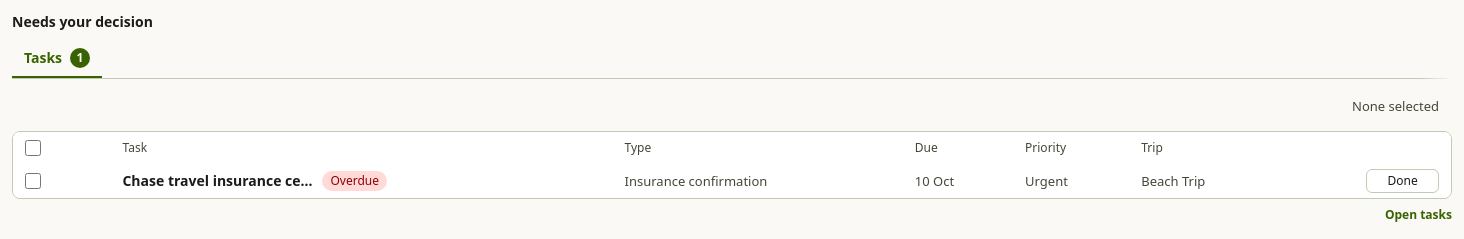
Test case: Tasks due group — Done reads the task fresh (deep S2) › sends nothing for a task already Completed elsewhere: it stays so, the row leaves, the group refetches and says so
Click the button with aria-label "Done: Chase travel insurance certificate": [1403, 181] box [1366,169,1439,193]
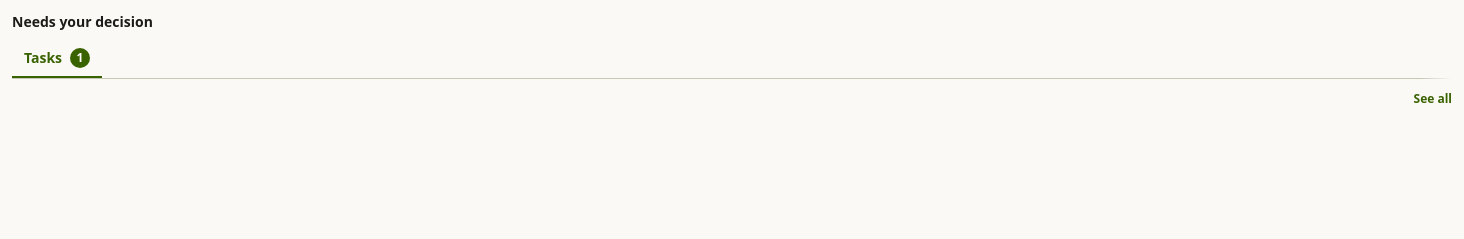
expect the text "Chase travel insurance certificate" is gone: met
